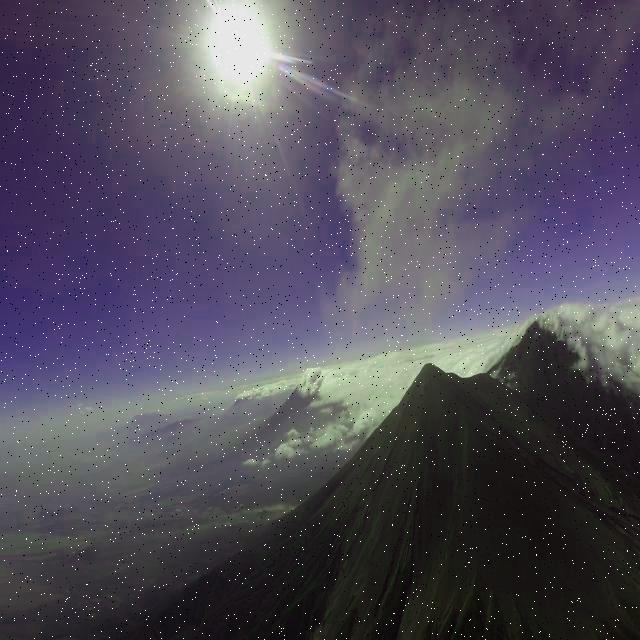Plume: (321, 2, 621, 286)
Summit: (404, 361, 454, 392)
